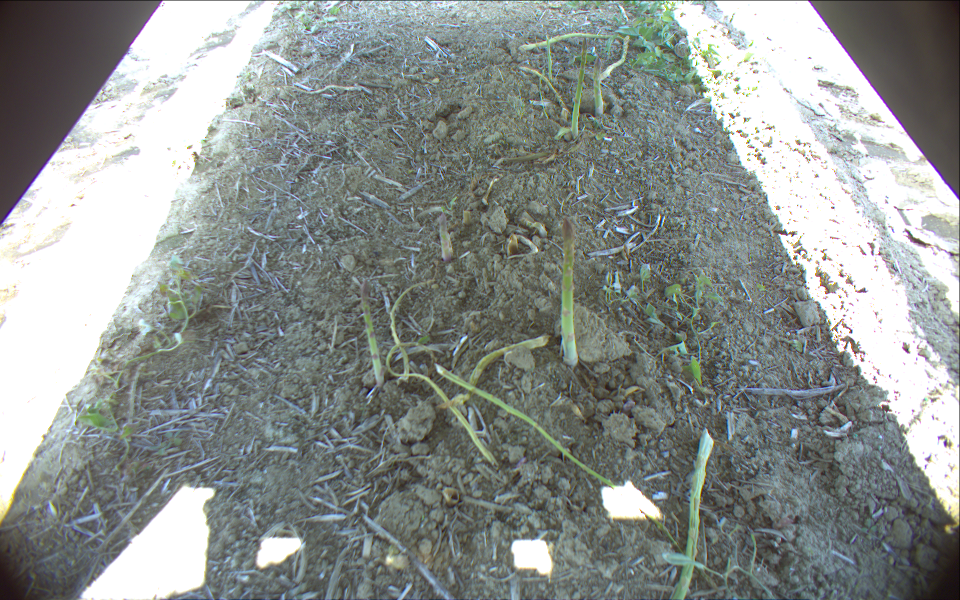aspa: (436, 364, 683, 555), (386, 343, 499, 465), (670, 426, 715, 600), (391, 278, 435, 385), (467, 336, 545, 393), (561, 219, 579, 366), (359, 281, 383, 389), (517, 66, 568, 115), (520, 33, 635, 52), (573, 35, 588, 135), (602, 34, 631, 83), (437, 213, 452, 260), (594, 58, 604, 117), (544, 34, 554, 78)
